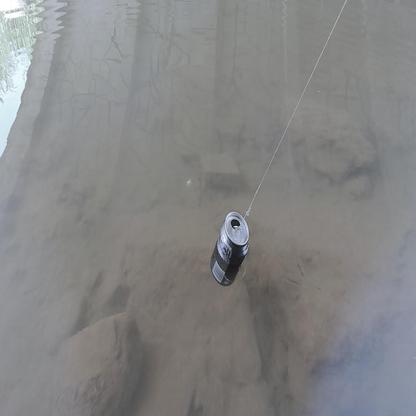can: (210, 211, 249, 287)
